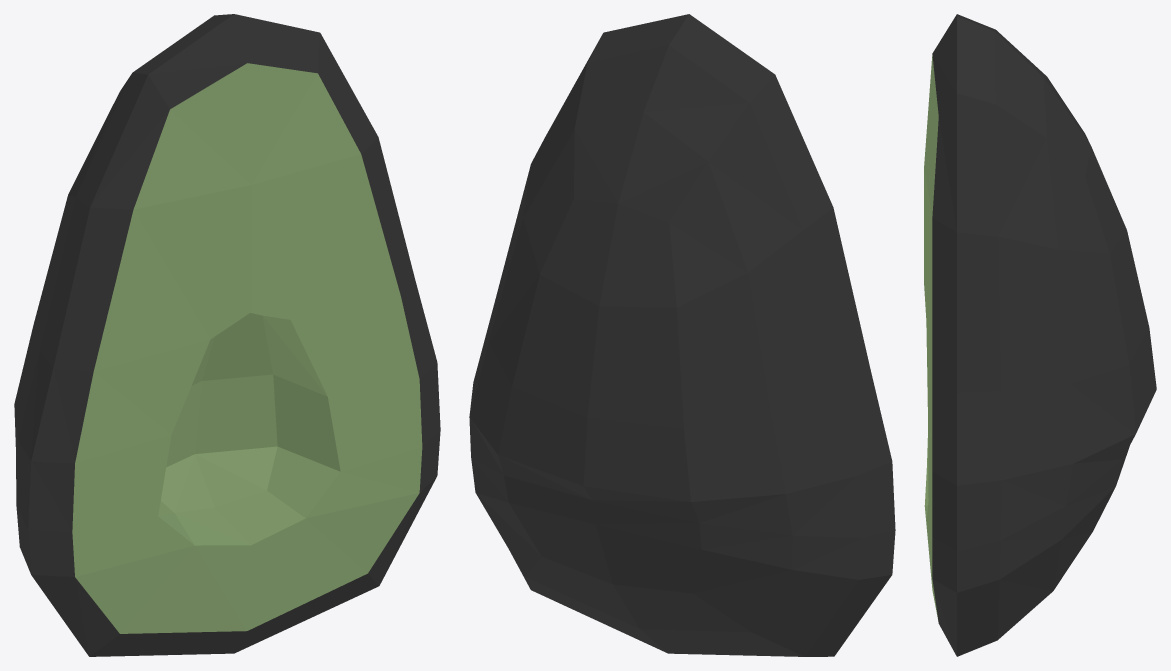
The model's file is Avocado_Empty.glb.
The picture shows the model from 3 angles, left to right: view 1: azimuth 30°, elevation 25°; view 2: azimuth 150°, elevation 25°; view 3: azimuth 270°, elevation 25°; orthographic projection. The views are drawn at different scales.
Parts seen in each view (by area): view 1: Avocado_Empty; view 2: Avocado_Empty; view 3: Avocado_Empty.
Boxes of the visible parts, box(x1,y1,x2,y2) form: Avocado_Empty: box(14, 14, 440, 656); Avocado_Empty: box(469, 14, 895, 656); Avocado_Empty: box(924, 14, 1156, 656).
Size of the model in its own units: 0.7384 by 1.09 by 0.3818.
